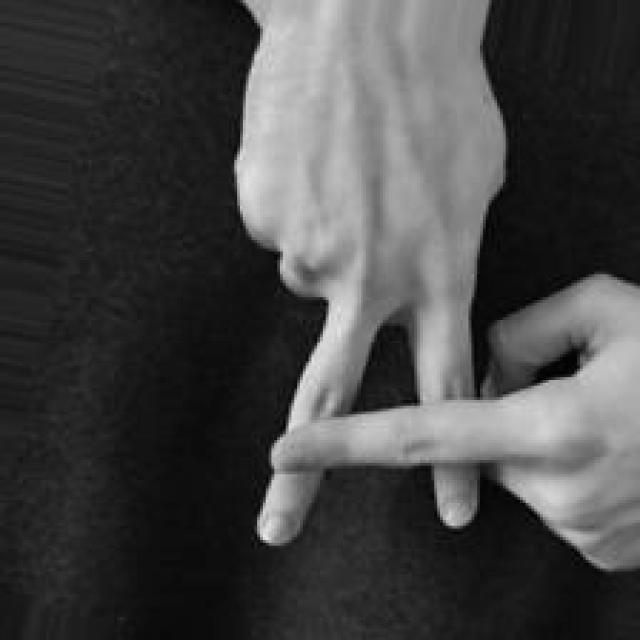A: (237, 49, 640, 572)
